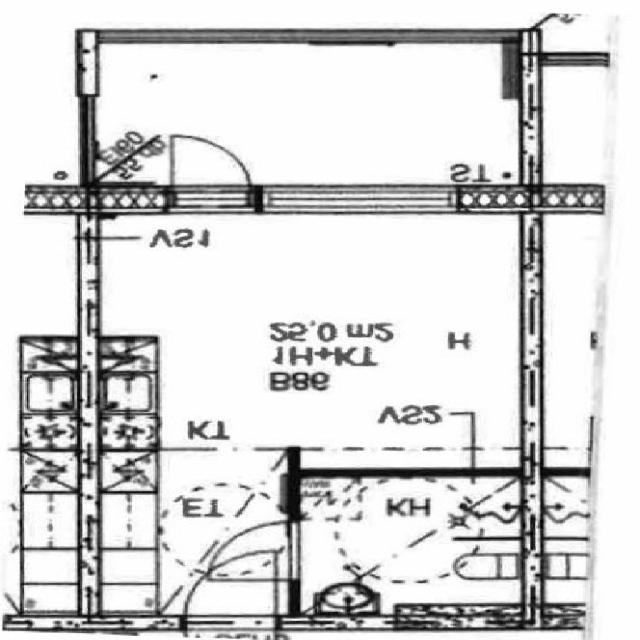door: (186, 552, 277, 630), (172, 132, 248, 213), (208, 522, 301, 580)
